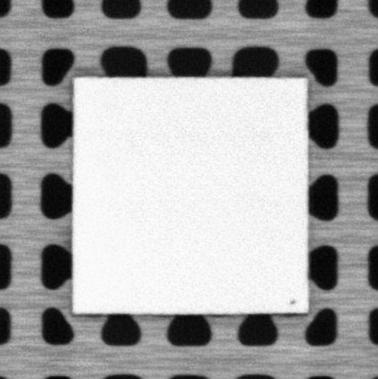DIE_INK: (286, 296, 297, 306)
